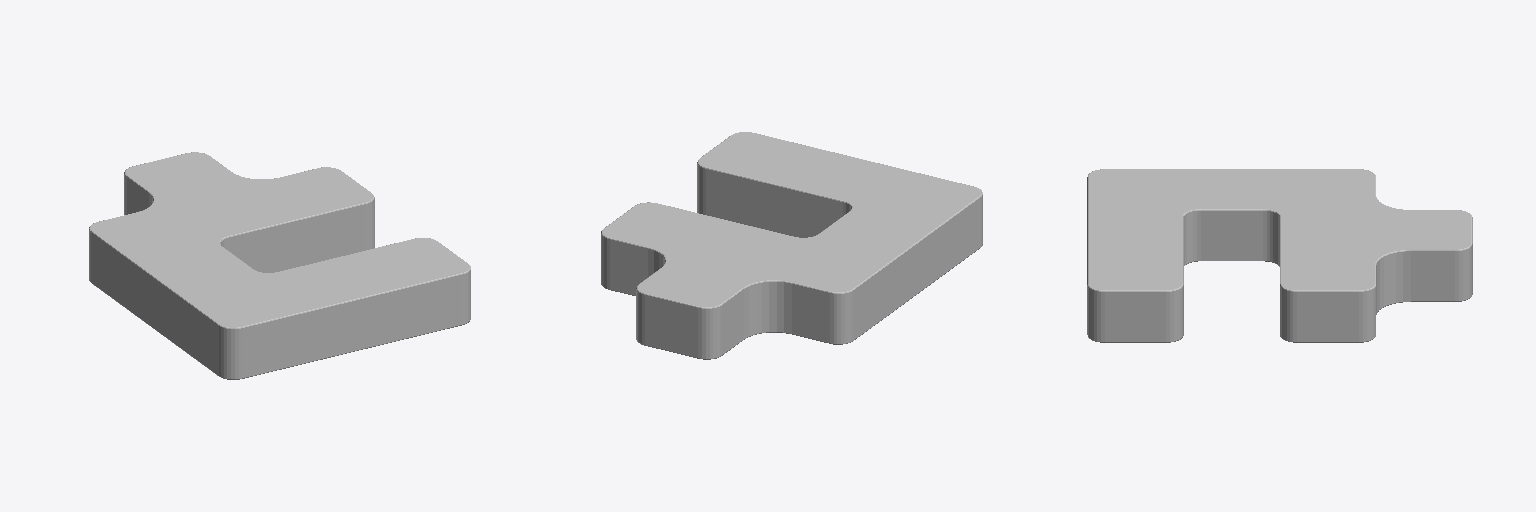
File: level05.obj
3 renders of one model, left to right at view 1: azimuth 30°, elevation 25°; view 2: azimuth 150°, elevation 25°; view 3: azimuth 270°, elevation 25°, orthographic.
Size of the model in its own units: 250 by 50 by 333.